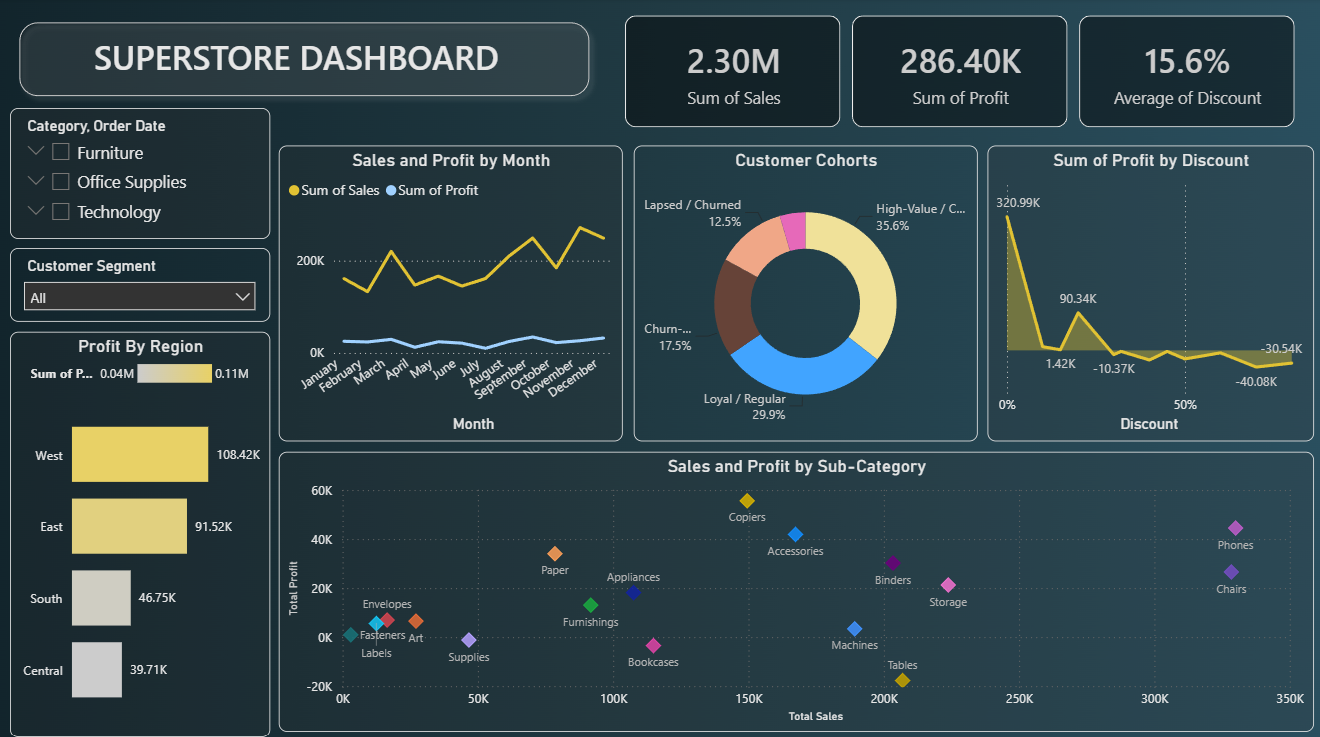

What the dashboard file says about the page in this screenshot:
{"tool":"powerbi","page":{"name":"Page 1","canvas":[1280,720],"ordinal":0},"visuals":[{"type":"clusteredBarChart","title":"Profit By Region","fields":{"Y":["Sum(Sample - Superstore.Profit)"],"Category":["Sample - Superstore.Region"]},"box":[14.5,322.1,250.9,392.1],"z":0},{"type":"scatterChart","title":"Sales and Profit by Sub-Category","fields":{"X":["Sum(Sample - Superstore.Sales)"],"Y":["Sum(Sample - Superstore.Profit)"],"Series":["Sample - Superstore.Sub-Category"]},"box":[273.9,437.9,998.9,270.2],"z":1000},{"type":"lineChart","title":"Sales and Profit by Month","fields":{"Y":["Sum(Sample - Superstore.Sales)","Sum(Sample - Superstore.Profit)"],"Category":["Sample - Superstore.Order Date","Sample - Superstore.Order Date.Variation.Date Hierarchy.Month"]},"box":[273.9,142.4,331.8,285.9],"z":2000},{"type":"areaChart","fields":{"Y":["Sum(Sample - Superstore.Profit)"],"Category":["Sample - Superstore.Discount"]},"box":[957.9,142.4,314.9,285.9],"z":3000},{"type":"slicer","title":"Fliter","fields":{"Values":["Sample - Superstore.Category","Sample - Superstore.Order Date"]},"box":[14.5,106.2,250.9,126.7],"z":4000},{"type":"cardVisual","fields":{"Data":["Sum(Sample - Superstore.Sales)","Sum(Sample - Superstore.Profit)","Avg(Sample - Superstore.Discount)"]},"box":[591.2,0,681.6,142.4],"z":5000},{"type":"shape","box":[14.5,14.5,568.2,89.3],"z":5500},{"type":"textbox","box":[90.5,30.2,415,57.9],"z":6000},{"type":"donutChart","title":"Customer Cohorts","fields":{"Category":["CustomerSegments.Customer Segment"],"Y":["CountNonNull(CustomerSegments.Customer ID)"]},"box":[616.5,142.4,331.8,285.9],"z":6001},{"type":"slicer","fields":{"Values":["CustomerSegments.Customer Segment"]},"box":[14.5,241.3,250.9,71.2],"z":6002}]}

Visuals, with their boxes in screenshot pixels (x1, y1, x2, y2), scaled from the page's 1280x720 canvas onto the 1320x737 screenshot:
"Profit By Region" clusteredBarChart: [left=15, top=330, right=274, bottom=731]
"Sales and Profit by Sub-Category" scatterChart: [left=282, top=448, right=1313, bottom=725]
"Sales and Profit by Month" lineChart: [left=282, top=146, right=625, bottom=438]
areaChart - Sum(Sample - Superstore.Profit) x Sample - Superstore.Discount: [left=988, top=146, right=1313, bottom=438]
"Fliter" slicer: [left=15, top=109, right=274, bottom=238]
cardVisual - Sum(Sample - Superstore.Sales) x Sum(Sample - Superstore.Profit): [left=610, top=0, right=1313, bottom=146]
shape: [left=15, top=15, right=601, bottom=106]
textbox: [left=93, top=31, right=521, bottom=90]
"Customer Cohorts" donutChart: [left=636, top=146, right=978, bottom=438]
slicer - CustomerSegments.Customer Segment: [left=15, top=247, right=274, bottom=320]
